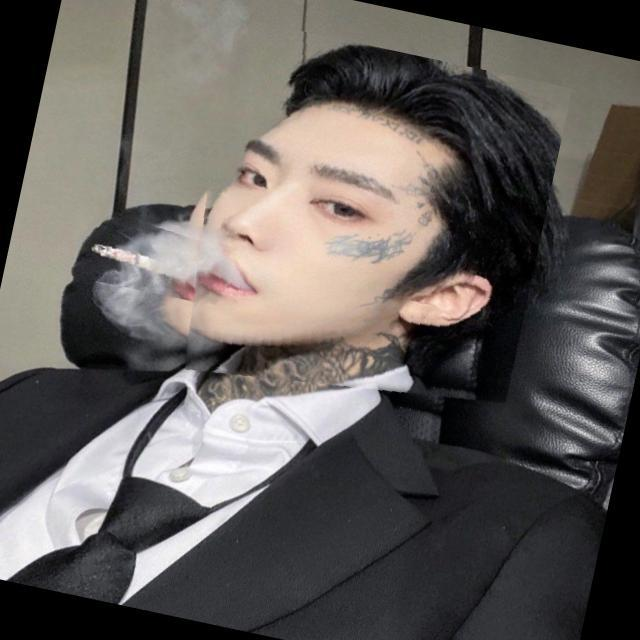cigarette: (62, 201, 208, 301)
